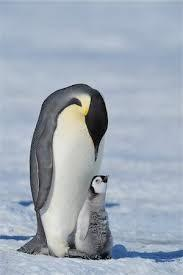emporer: (23, 81, 125, 263)
